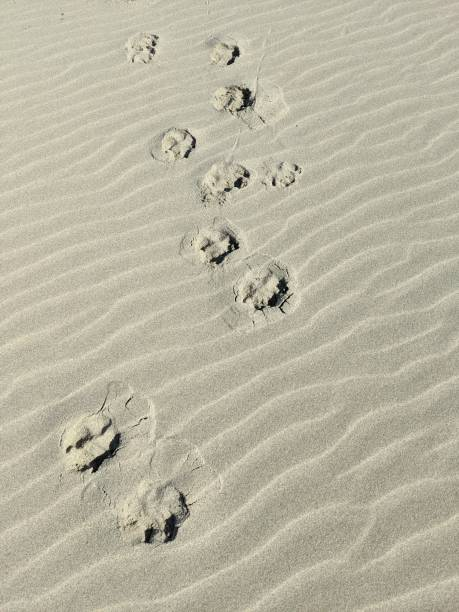animal_foot_print: (104, 436, 220, 544), (60, 381, 155, 472), (228, 255, 295, 327), (117, 479, 188, 544), (211, 81, 287, 129), (60, 411, 120, 471), (180, 218, 241, 269), (200, 161, 250, 204), (150, 127, 195, 162), (212, 85, 253, 115), (262, 161, 301, 188), (125, 32, 158, 62), (210, 39, 240, 66)
